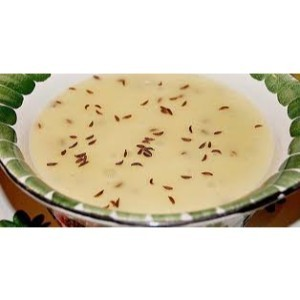cheese_brain food: (100, 107, 215, 189)
